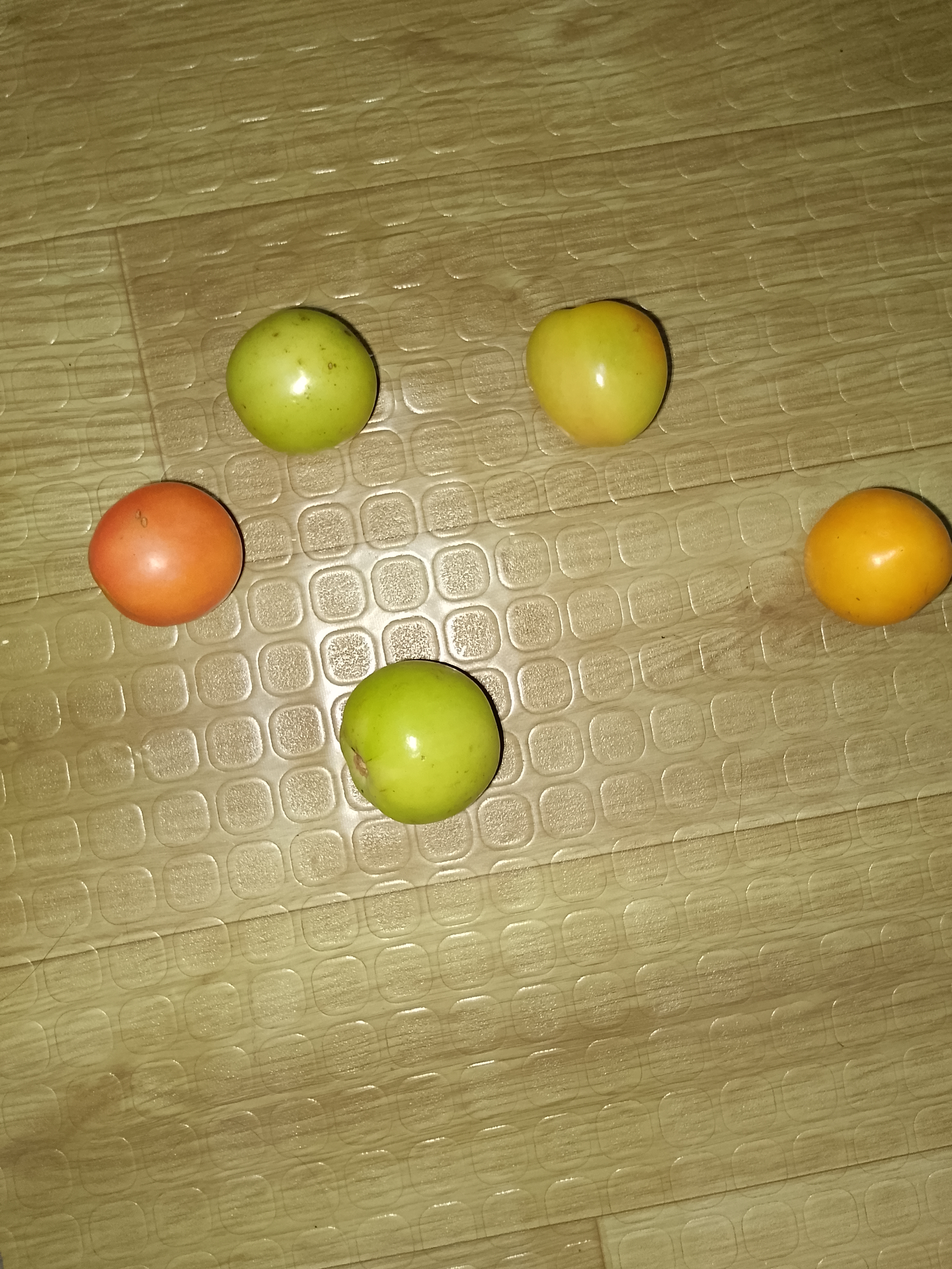Ripe: (766, 472, 952, 688), (80, 459, 262, 654)
Unripe: (280, 633, 553, 851), (467, 244, 722, 475), (202, 285, 444, 477)
